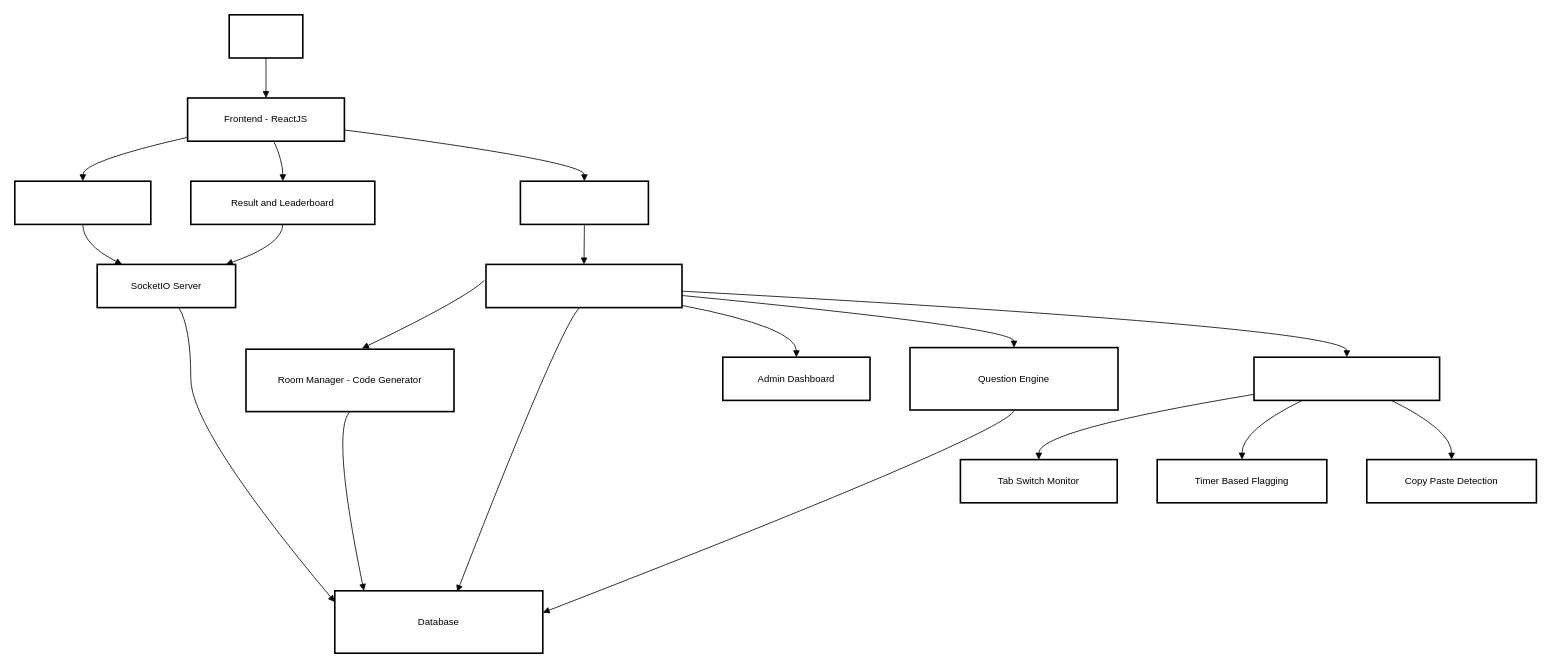
Some shapes in this 1550 by 667 pixel diagram are drawn without their labels. The shapes that lost their labels are listed below. From the top down, each one's centre as x and y in pixels, then its label:
At [265,36]: "User".
At [82,202]: "SocketIO Client".
At [584,202]: "REST API Calls".
At [583,285]: "Backend - NodeJS Express".
At [1346,378]: "Cheat Detection Module".
